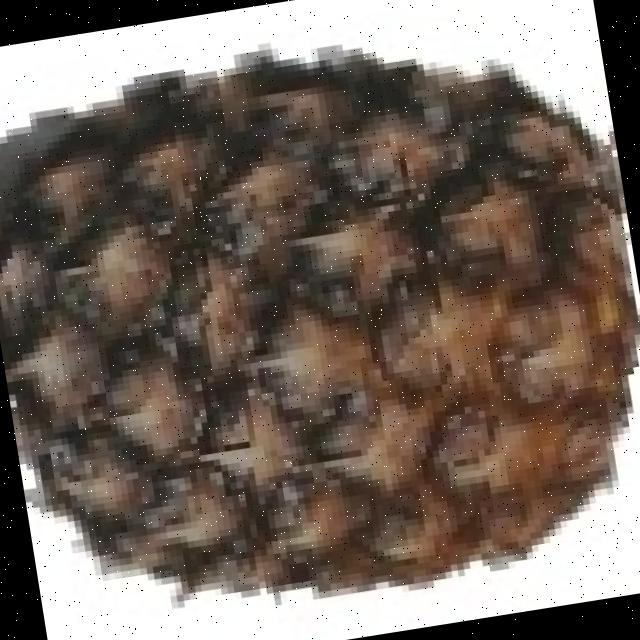pineapple: (0, 55, 640, 595)
